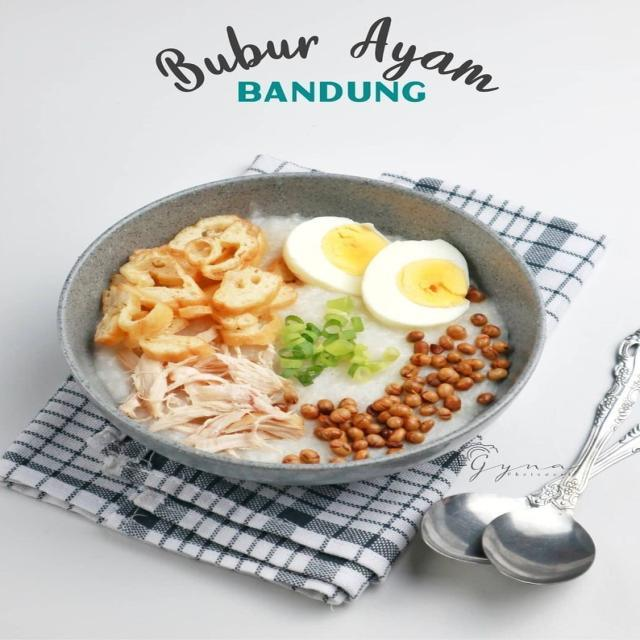bubur ayam: (94, 215, 509, 464)
mangkuk: (56, 172, 546, 488)
telur rebus: (360, 238, 472, 332), (282, 216, 386, 296)
